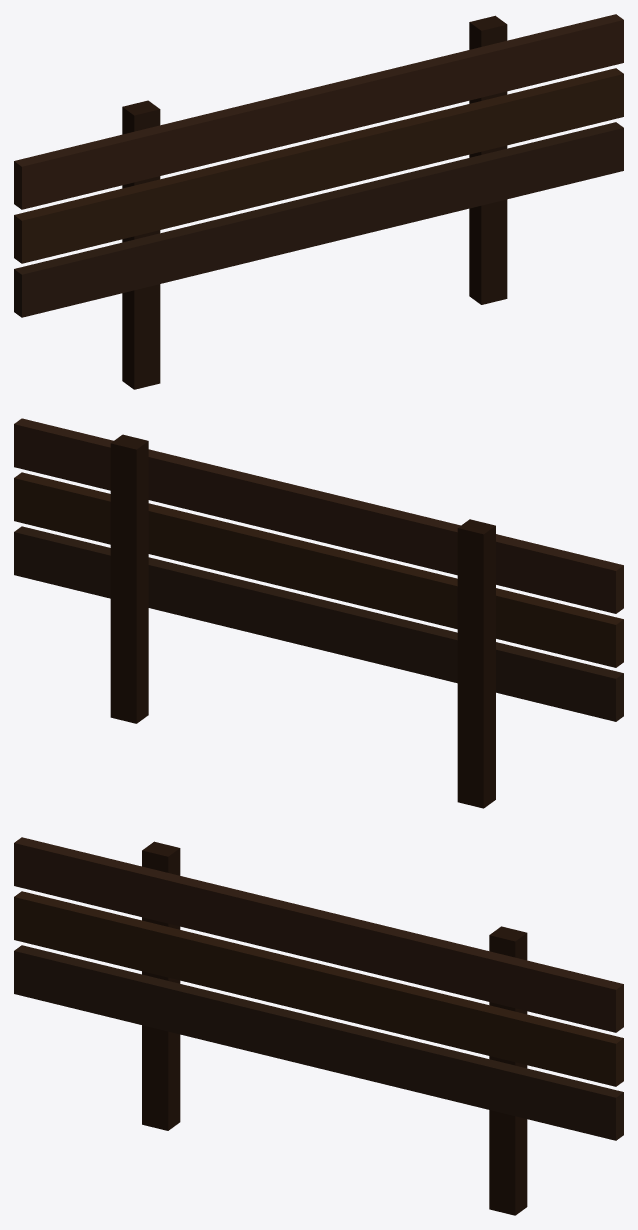
File: Fence04.FBX
3 renders of one model, top to bottom at view 1: azimuth 30°, elevation 25°; view 2: azimuth 150°, elevation 25°; view 3: azimuth 330°, elevation 25°, orthographic.
Parts seen in each view (by area): view 1: UpperBoard, MidlleBoard, LowerBoard002, Posts002; view 2: UpperBoard, MidlleBoard, LowerBoard002, Posts002; view 3: LowerBoard002, UpperBoard, MidlleBoard, Posts002.
Part boxes in pixels (left/top/right/bottom): UpperBoard: left=14, top=14, right=623, bottom=209; MidlleBoard: left=14, top=68, right=623, bottom=263; LowerBoard002: left=14, top=122, right=623, bottom=317; Posts002: left=122, top=15, right=507, bottom=389; UpperBoard: left=14, top=418, right=623, bottom=613; MidlleBoard: left=14, top=472, right=623, bottom=667; LowerBoard002: left=14, top=526, right=623, bottom=721; Posts002: left=110, top=434, right=495, bottom=808; LowerBoard002: left=14, top=945, right=623, bottom=1140; UpperBoard: left=14, top=837, right=623, bottom=1032; MidlleBoard: left=14, top=891, right=623, bottom=1086; Posts002: left=142, top=841, right=527, bottom=1215.
Size of the model in its own units: 241 by 105 by 13.81.
